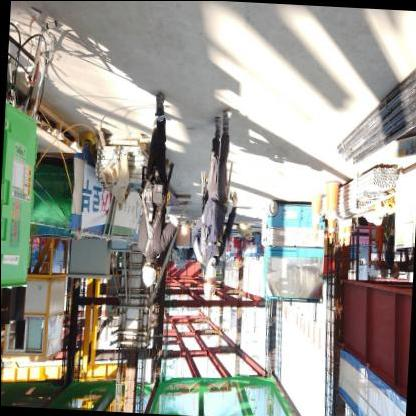safety-shoe: (150, 84, 166, 115), (218, 109, 235, 138)
